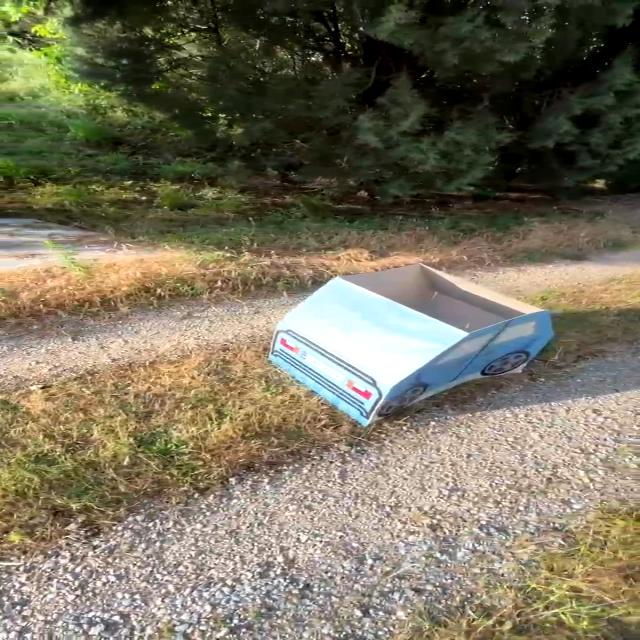blue_car: (233, 249, 577, 453)
